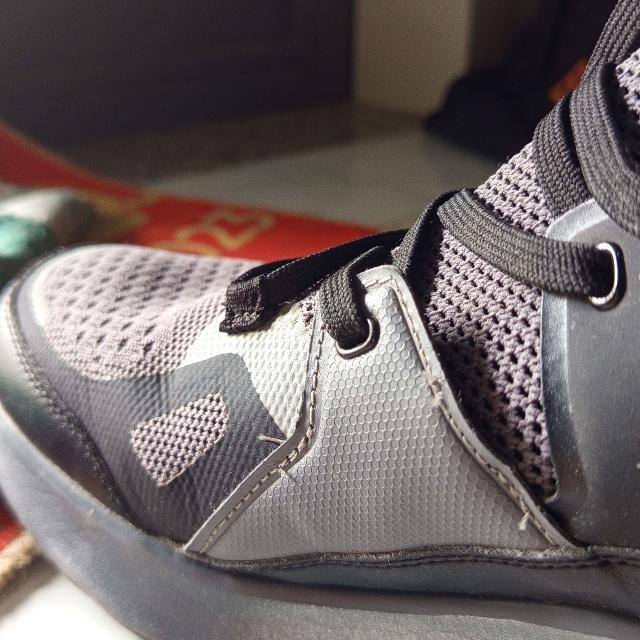broken-error: (419, 374, 450, 418)
